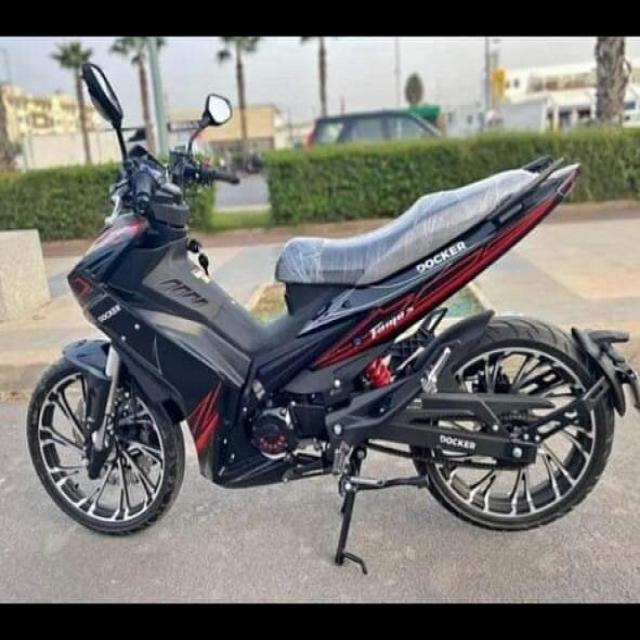Motorcycle: (27, 137, 640, 573)
